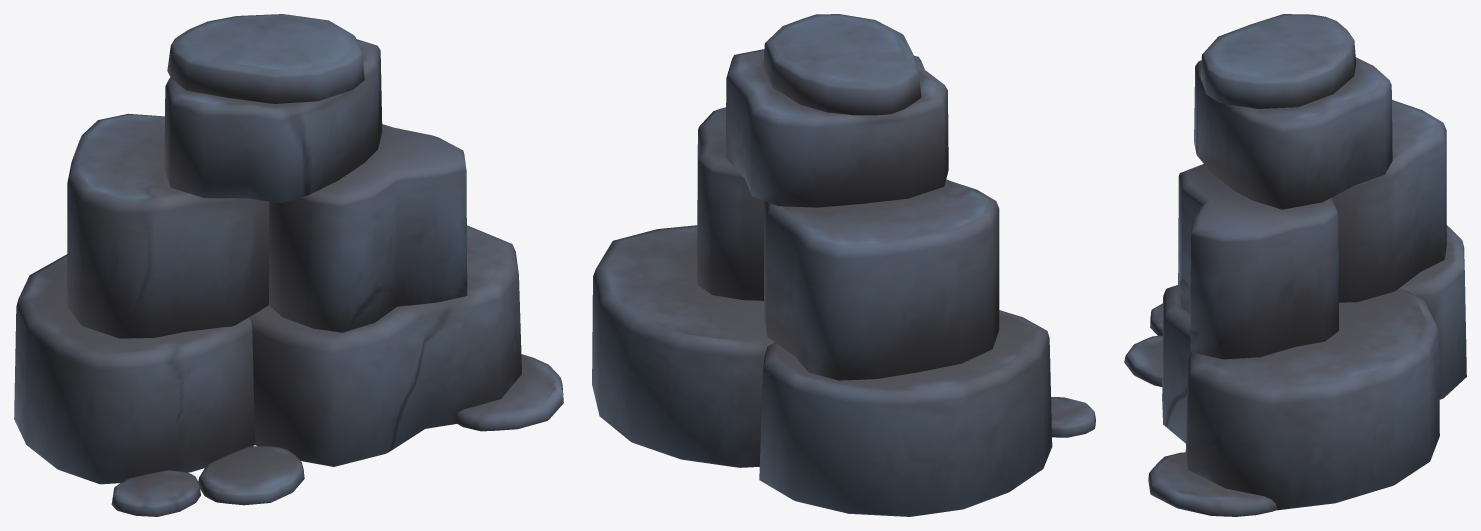
Rendered from rock_1.fbx.
The picture shows the model from 3 angles, left to right: view 1: azimuth 30°, elevation 25°; view 2: azimuth 150°, elevation 25°; view 3: azimuth 270°, elevation 25°; orthographic projection. The views are drawn at different scales.
Visible parts, largest first — view 1: rock_1; view 2: rock_1; view 3: rock_1.
Part boxes in pixels (x1,y1,x2,y2): rock_1: [14, 14, 563, 516]; rock_1: [592, 14, 1095, 516]; rock_1: [1124, 14, 1466, 516].
Size of the model in its own units: 120 by 92.93 by 81.64.
